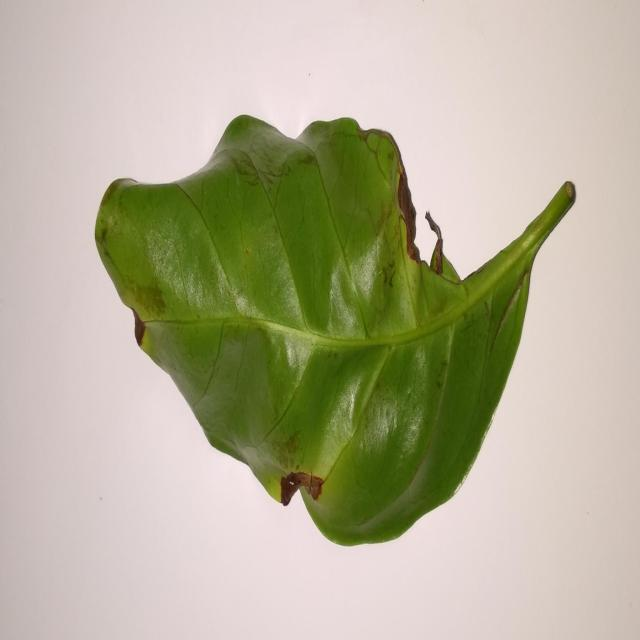Enfermedad-Antracnosis: (92, 115, 577, 549)
